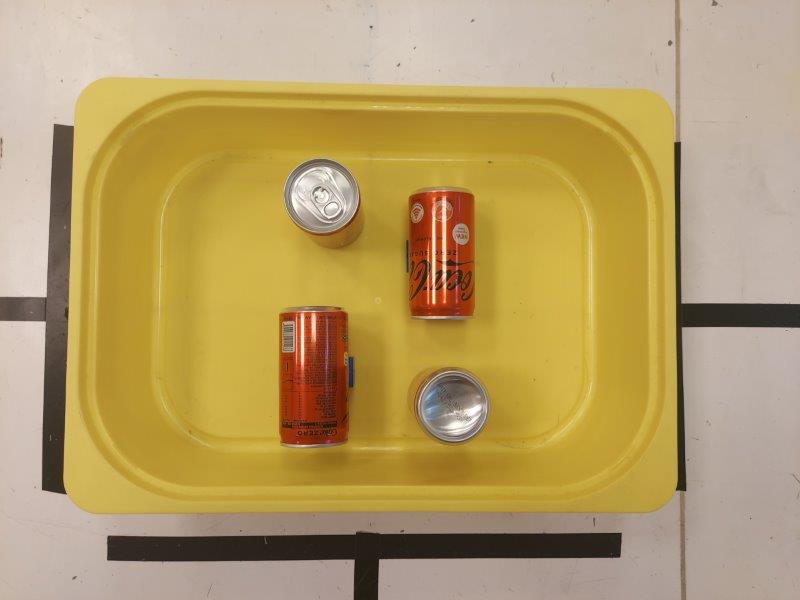Coke: (279, 307, 349, 446), (410, 187, 474, 318), (285, 159, 365, 251), (408, 367, 488, 445)
